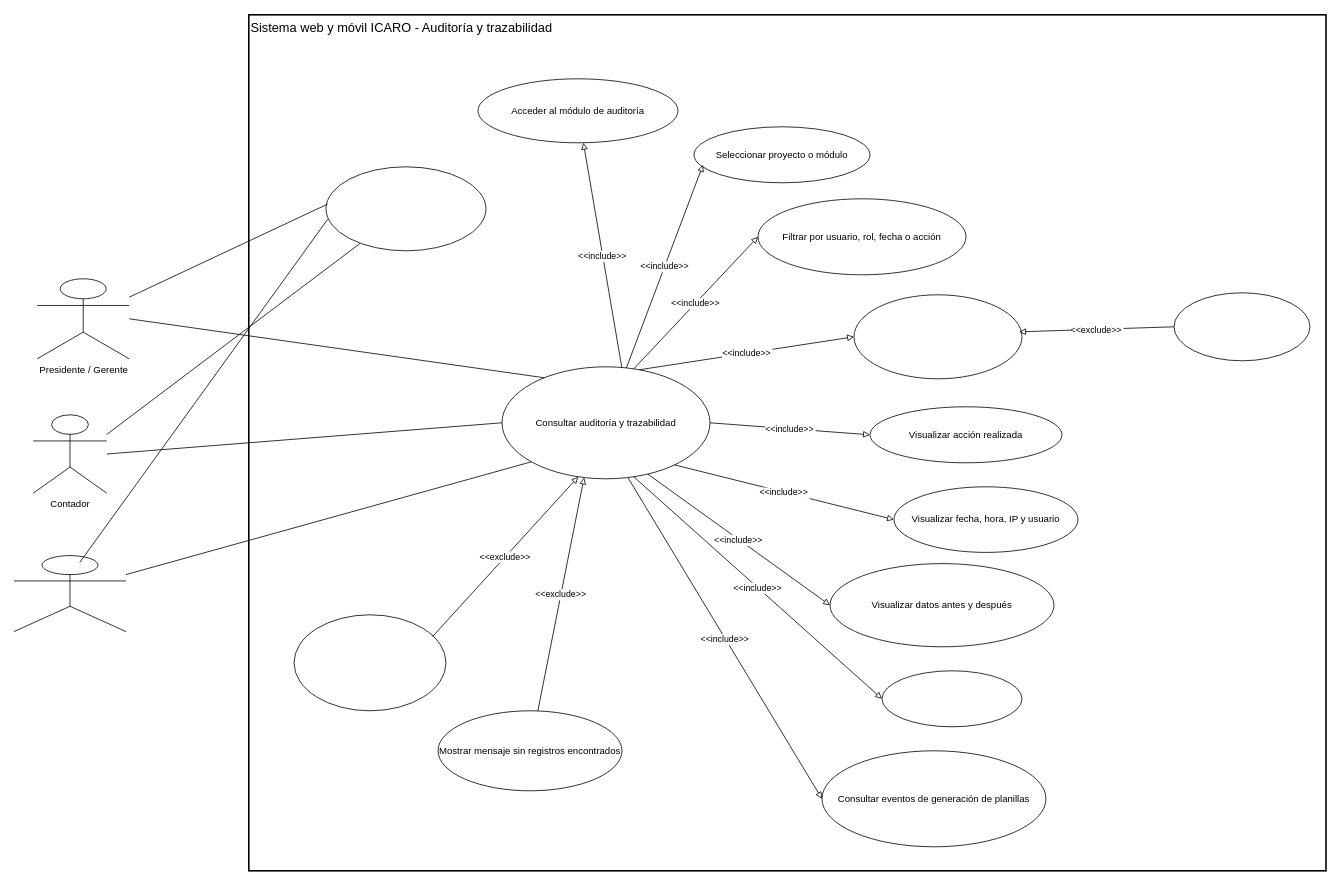
Image size: 1341x885. Some labels were removed from this diagram. Here are the shapes that lost their labels. From the top down, the centre of each, then its label:
At (405,208): "Exportar reporte de auditoría".
At (937,336): "Consultar registros de audit_log".
At (1241,326): "Bloquear modificación o eliminación de audit_log".
At (69,593): "Administrador del Sistema".
At (369,662): "Restringir consulta por permisos insuficientes".
At (951,698): "Consultar eventos de cierre contable".
